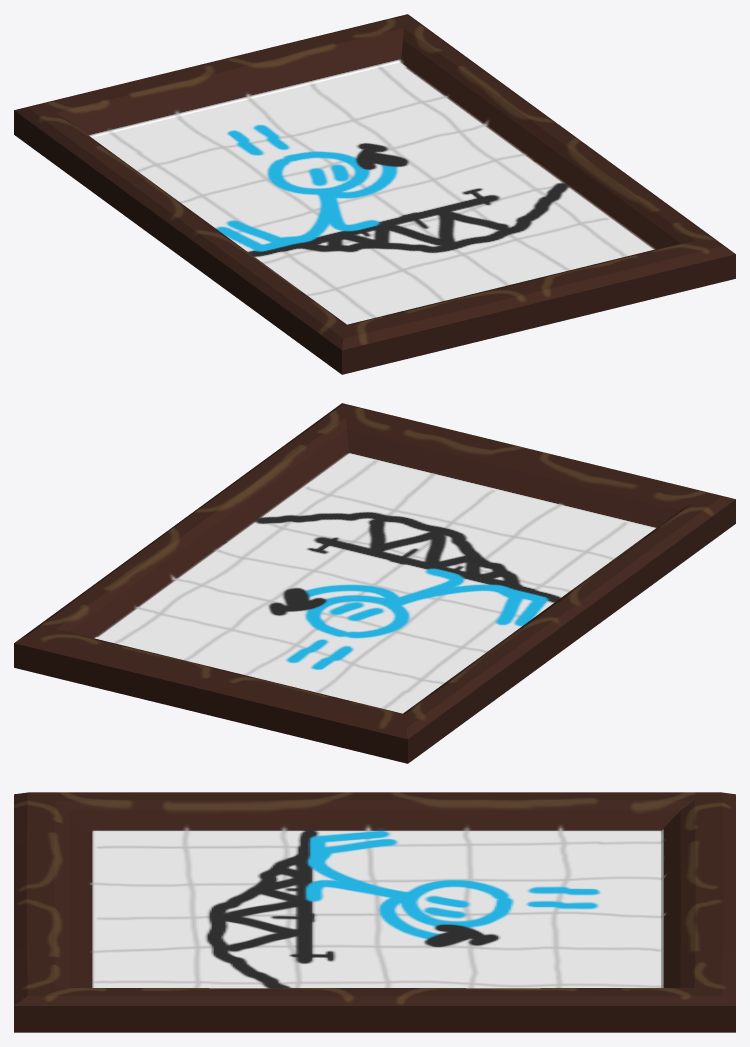
The model's file is Painting1_Model.fbx.
The picture shows the model from 3 angles, top to bottom: view 1: azimuth 30°, elevation 25°; view 2: azimuth 150°, elevation 25°; view 3: azimuth 270°, elevation 25°; orthographic projection. The views are drawn at different scales.
Visible parts, largest first — view 1: pCube13; view 2: pCube13; view 3: pCube13.
Part boxes in pixels (x1,y1,x2,y2): pCube13: (14,14,735,374); pCube13: (14,403,735,763); pCube13: (14,792,735,1032).
Size of the model in its own units: 0.0525 by 0.0038 by 0.0758.
